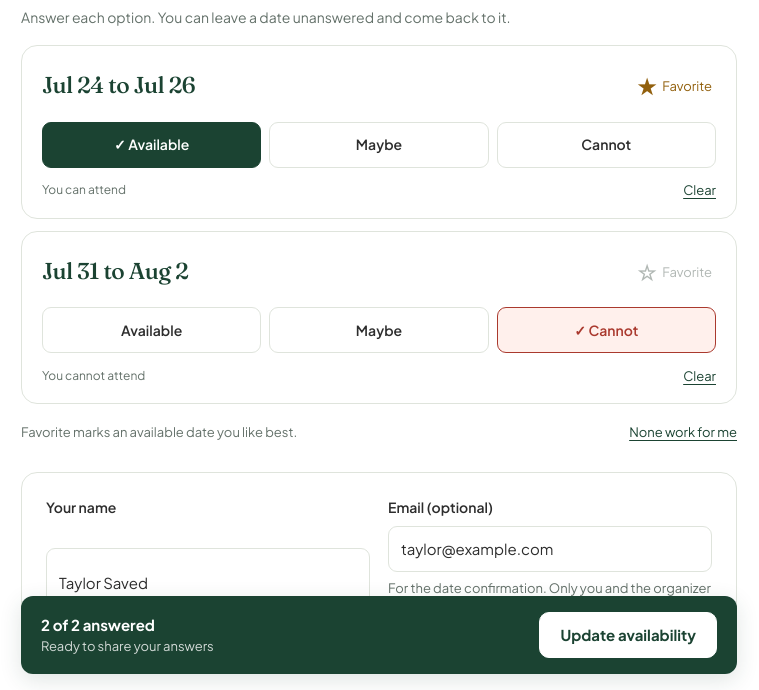
JoinFlow › prefills and updates a signed respondent without a capability header
The width and height of the screenshot is (759, 690).
(page scrolled)
Check: the field showing "Taylor Saved" is shown, box x1=46 y1=548 x2=370 y2=617
Check: the field showing "taylor@example.com" is shown, box x1=388 y1=526 x2=712 y2=572
Click the button with aria-label "Available: Friday, July 31" at (152, 330), box x1=42 y1=307 x2=261 y2=353
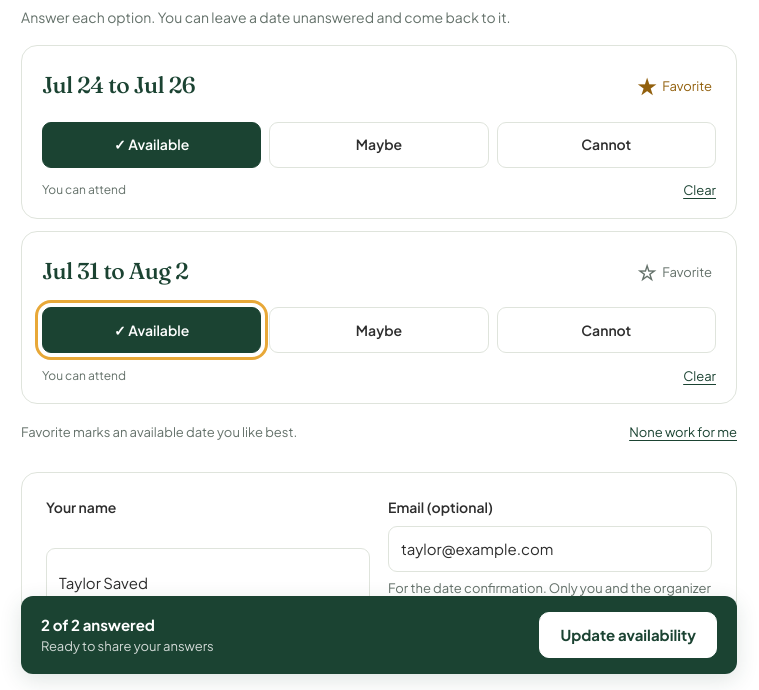
Click the button "Update availability" at (628, 635), box x1=539 y1=612 x2=717 y2=658
(page scrolled)
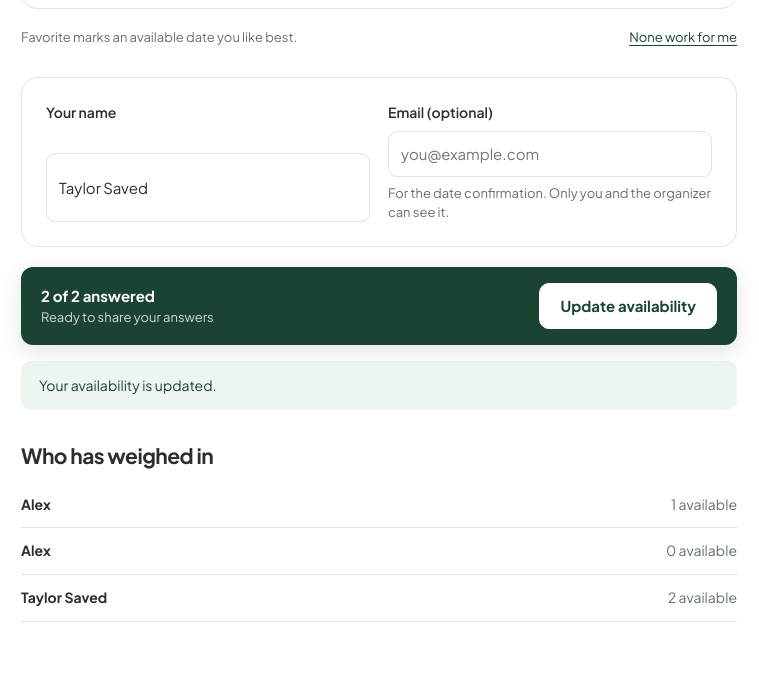
Check: the text "Your availability is updated." is shown, box x1=21 y1=361 x2=737 y2=410
